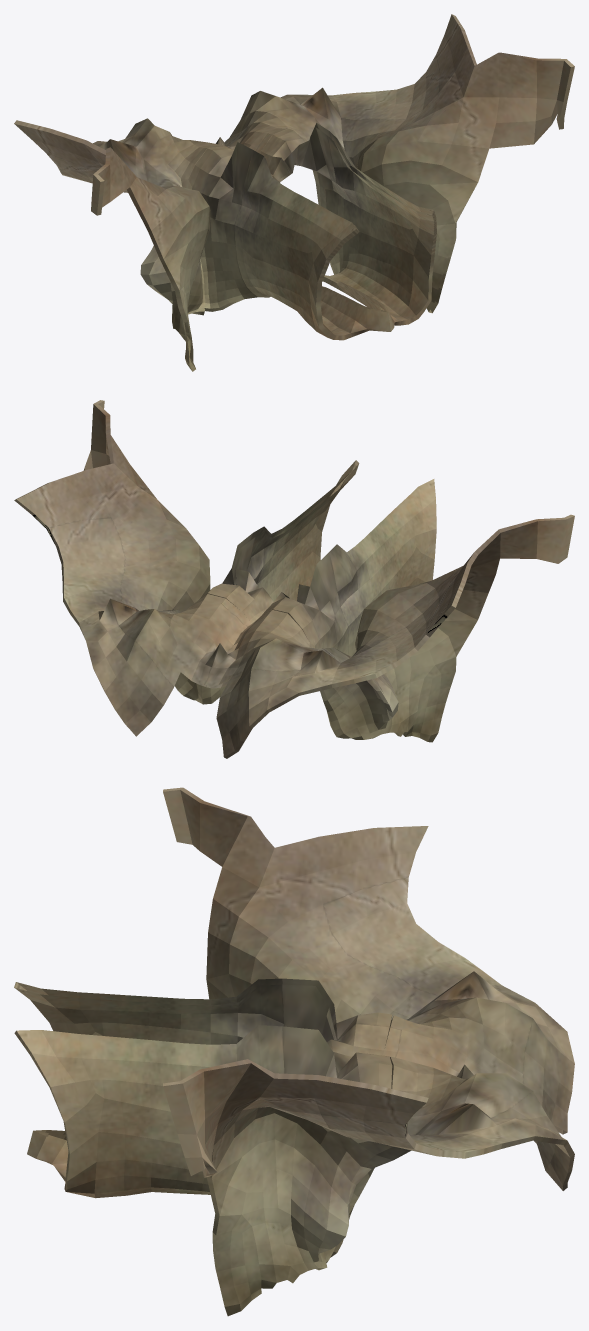
The model's file is 男性_骨骼系统_蝶骨.fbx.
3 views of the same model, one above another, from view 1: azimuth 30°, elevation 25°; view 2: azimuth 150°, elevation 25°; view 3: azimuth 270°, elevation 25° (orthographic). The views are drawn at different scales.
Parts seen in each view (by area): view 1: 男性_骨骼系统_蝶骨; view 2: 男性_骨骼系统_蝶骨; view 3: 男性_骨骼系统_蝶骨.
Part boxes in pixels (left/top/right/bottom): 男性_骨骼系统_蝶骨: left=14, top=14, right=574, bottom=371; 男性_骨骼系统_蝶骨: left=14, top=400, right=574, bottom=758; 男性_骨骼系统_蝶骨: left=14, top=787, right=574, bottom=1316.
Size of the model in its own units: 11.43 by 5.47 by 9.09.
